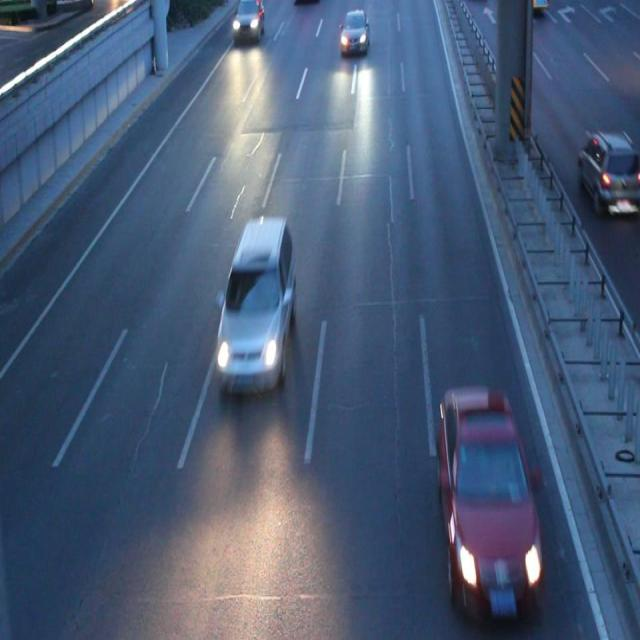car: (437, 384, 542, 609), (217, 221, 294, 389), (576, 132, 640, 205), (232, 1, 263, 43), (340, 10, 369, 49)
van: (515, 1, 545, 12)
